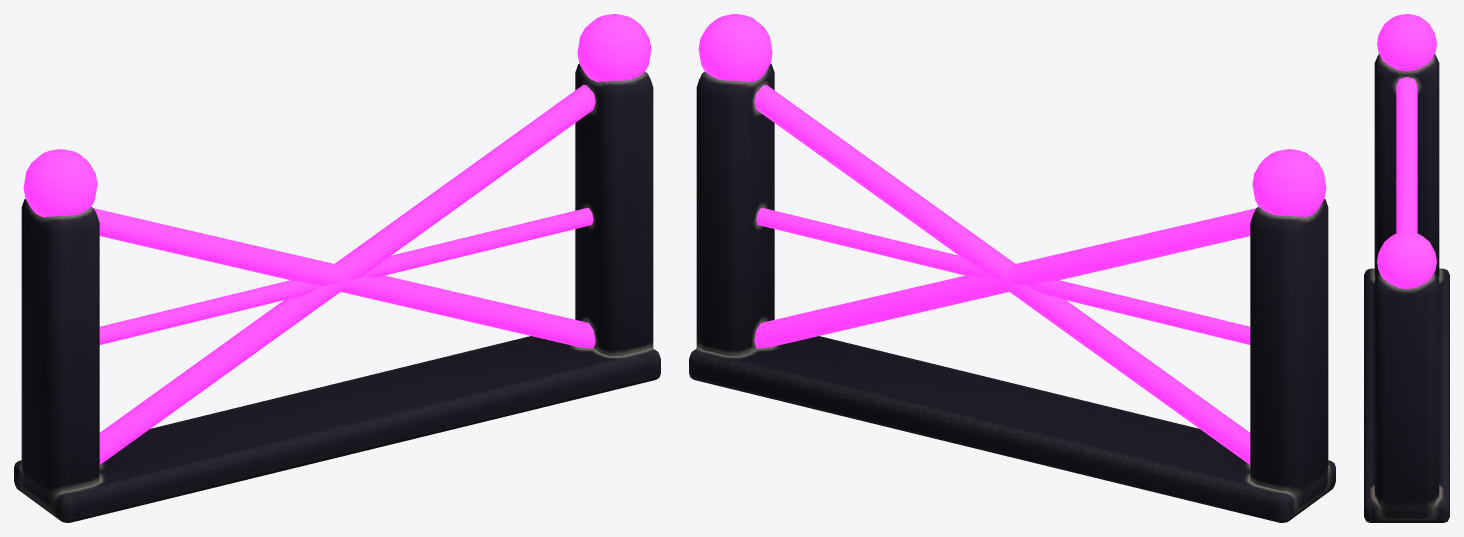
Rendered from rn_obstacle_laser_low.glb.
The picture shows the model from 3 angles, left to right: view 1: azimuth 30°, elevation 25°; view 2: azimuth 150°, elevation 25°; view 3: azimuth 270°, elevation 25°; orthographic projection. The views are drawn at different scales.
Parts seen in each view (by area): view 1: rn_obstacle_laser_low; view 2: rn_obstacle_laser_low; view 3: rn_obstacle_laser_low.
Part boxes in pixels (x1,y1,x2,y2): rn_obstacle_laser_low: (14, 14, 660, 522); rn_obstacle_laser_low: (689, 14, 1335, 522); rn_obstacle_laser_low: (1364, 14, 1449, 522).
Bounding box in the file's own units: 2.68 × 1.45 × 0.4.
2 materials, 2 textured.
